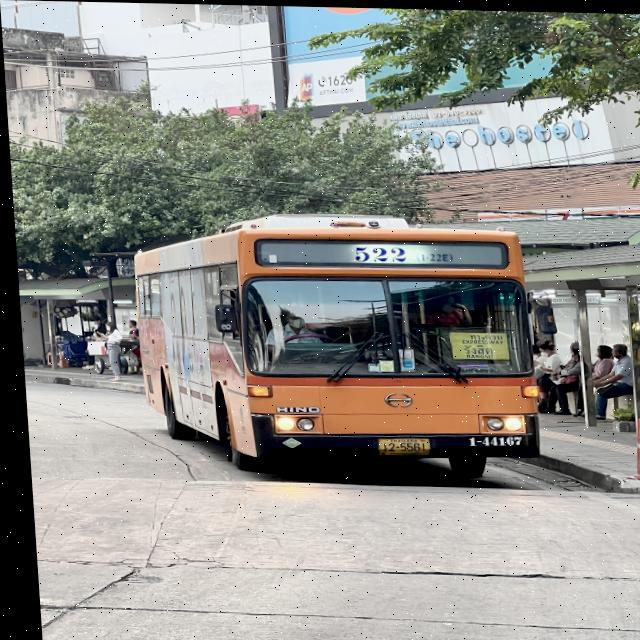BMTA-bus: (124, 211, 539, 482)
Bus-Line-Number: (339, 237, 455, 266)
Destination-Sign-Normal-Expressway: (441, 329, 507, 358)
